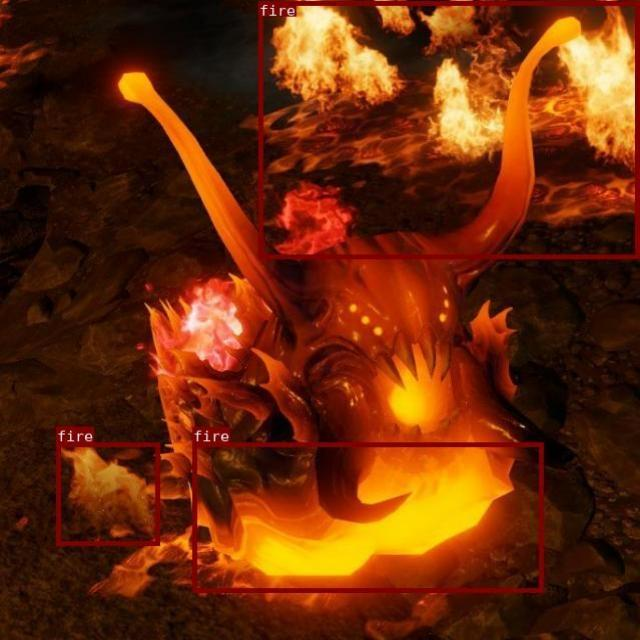fire: (258, 1, 638, 258), (192, 442, 543, 592), (55, 442, 159, 545)
